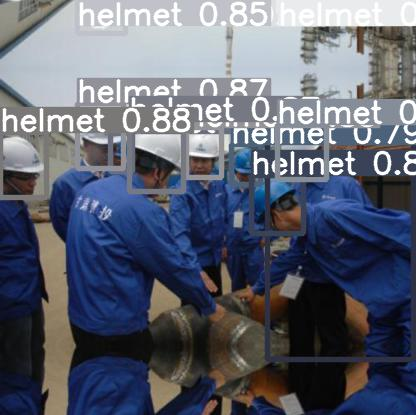helmet: (129, 121, 183, 191), (251, 175, 303, 233), (77, 103, 123, 168), (0, 132, 46, 197), (277, 124, 326, 179), (186, 127, 221, 177), (77, 0, 125, 33), (231, 144, 260, 184), (110, 133, 132, 171), (133, 0, 175, 15), (278, 0, 323, 12), (183, 0, 219, 9)
person: (267, 129, 413, 359)
